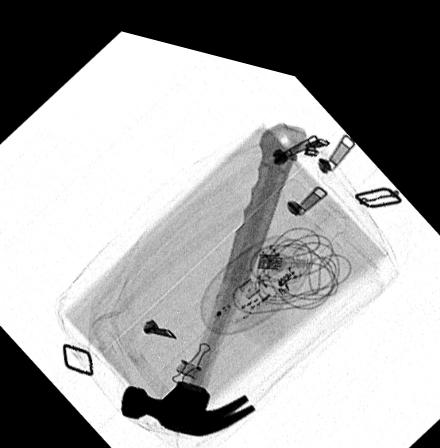Hammer: (120, 107, 309, 426)
